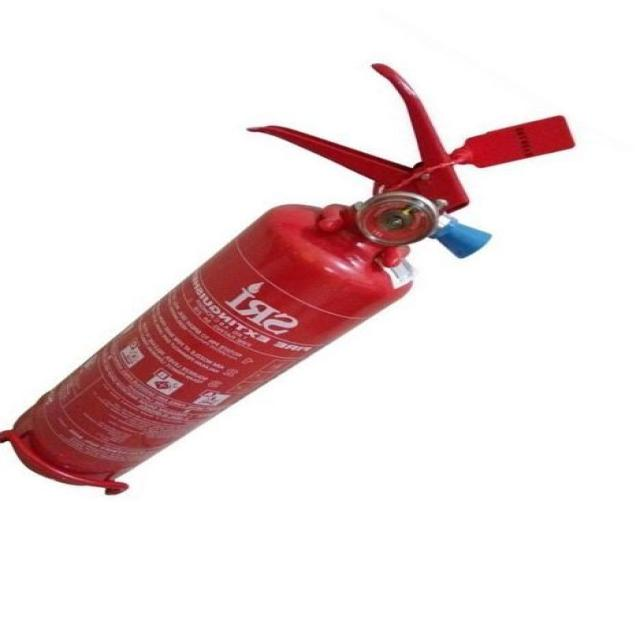fire_extinguisher: (0, 58, 578, 490)
